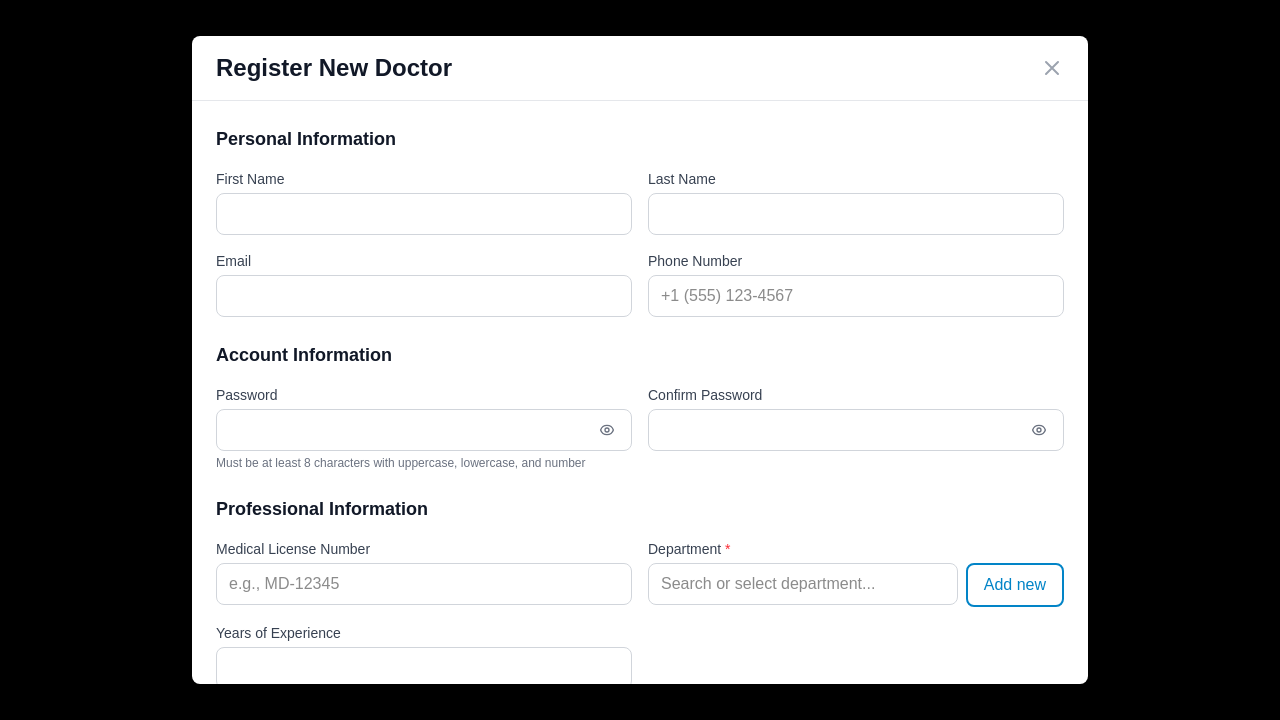
DoctorRegistrationModal › shows error when passwords do not match
The image size is (1280, 720).
In the password field labelled "Password": (404, 430) top-left (217, 410), bottom-right (591, 450), type "password123"
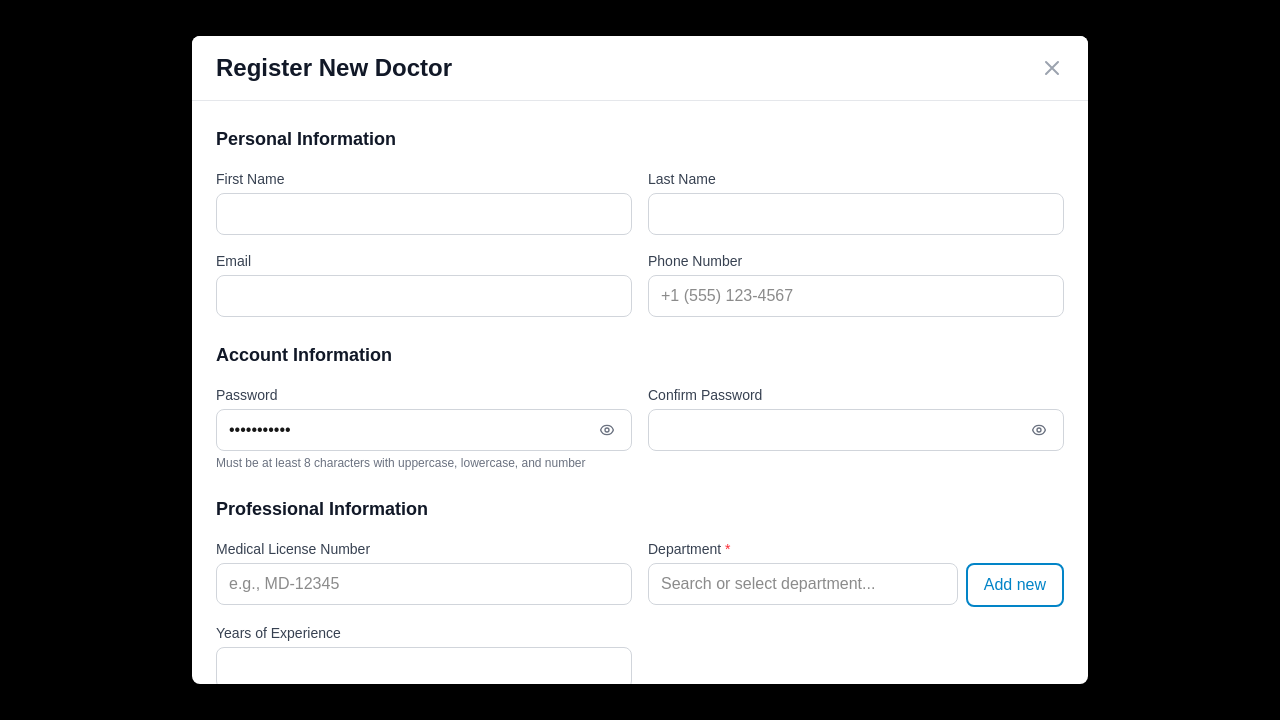
In the password field labelled "Confirm Password": (836, 430) top-left (649, 410), bottom-right (1023, 450), type "password456"
(page scrolled)
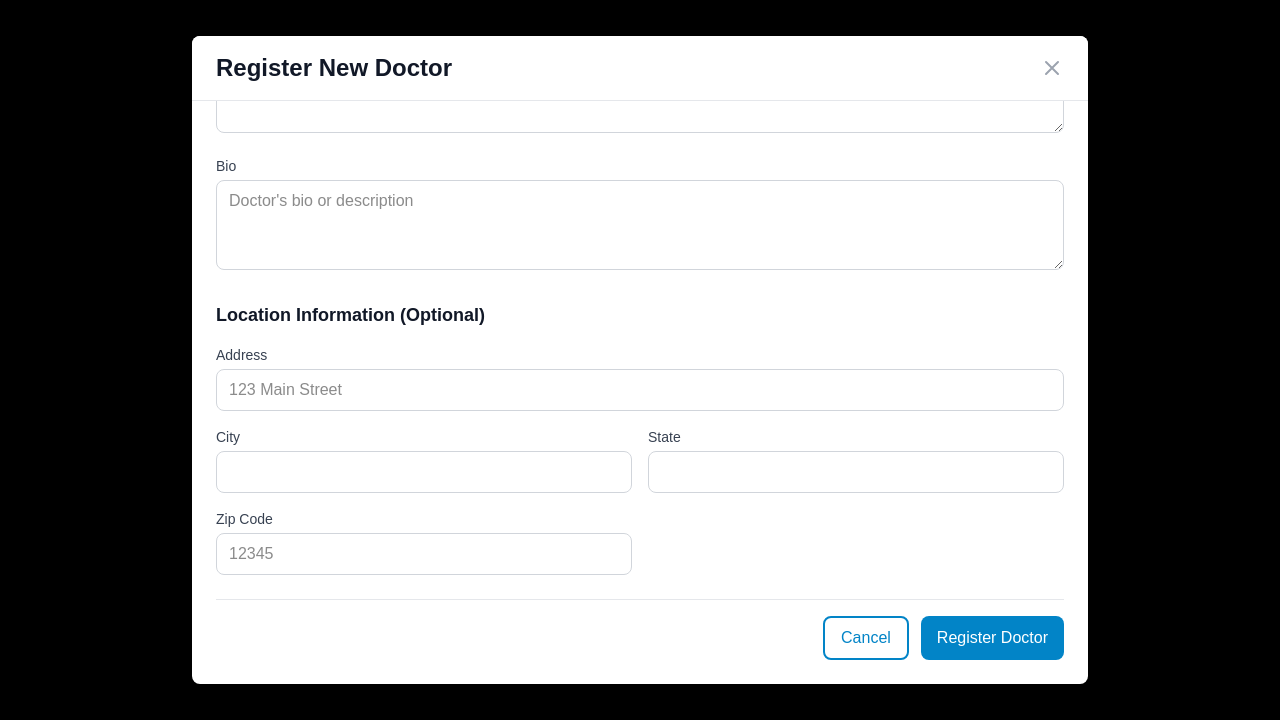
Click the button "Register Doctor": (992, 638) top-left (921, 616), bottom-right (1064, 660)
(page scrolled)
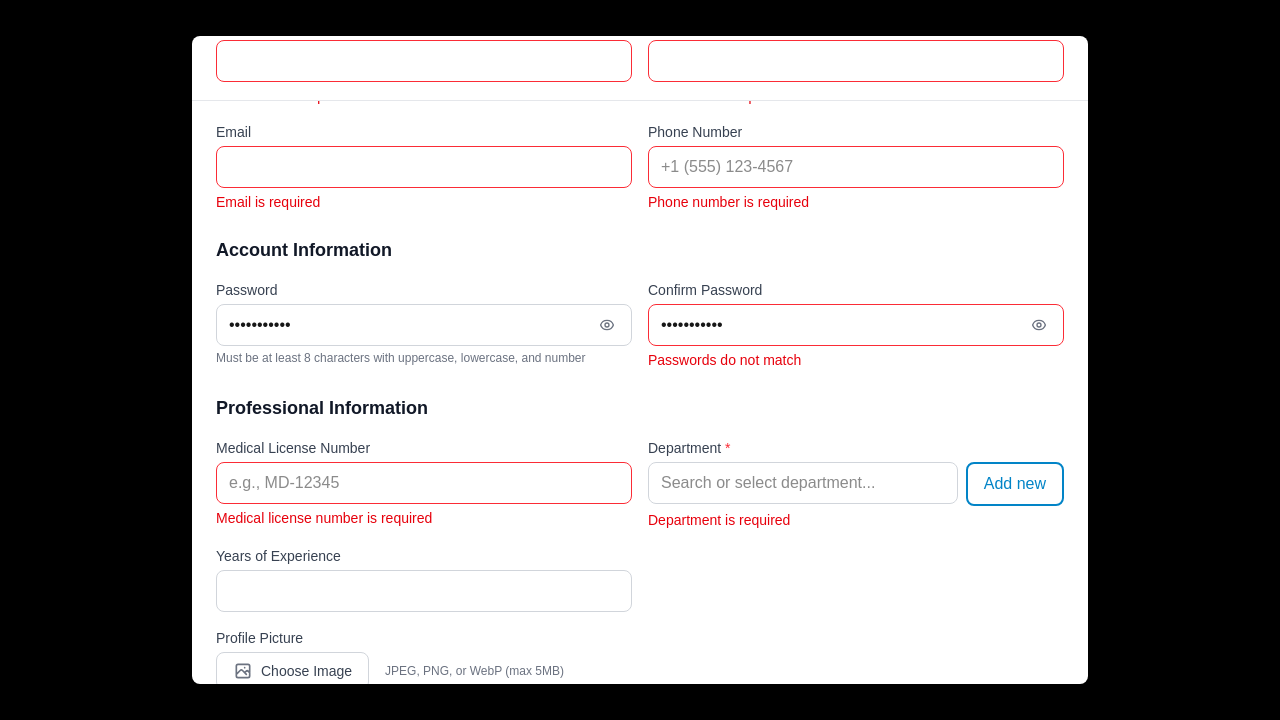
Now the text "Passwords do not match" is shown, box top-left (648, 352), bottom-right (801, 368)
